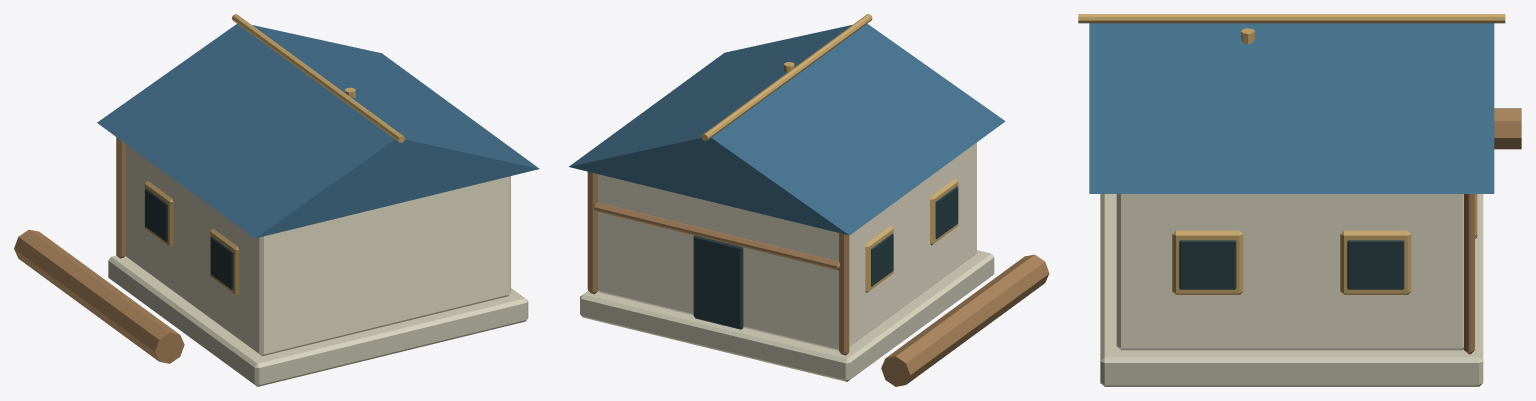
File: level_01.glb
3 views of the same model, side by side, from view 1: azimuth 30°, elevation 25°; view 2: azimuth 150°, elevation 25°; view 3: azimuth 270°, elevation 25° (orthographic). The views are drawn at different scales.
Visible parts, largest first — view 1: timber_yard — level 01; view 2: timber_yard — level 01; view 3: timber_yard — level 01.
Boxes of the visible parts, bbox=[...] form: timber_yard — level 01: bbox=[14, 14, 539, 386]; timber_yard — level 01: bbox=[569, 14, 1049, 386]; timber_yard — level 01: bbox=[1078, 14, 1521, 386].
Size of the model in its own units: 4.83 by 2.91 by 4.05.
